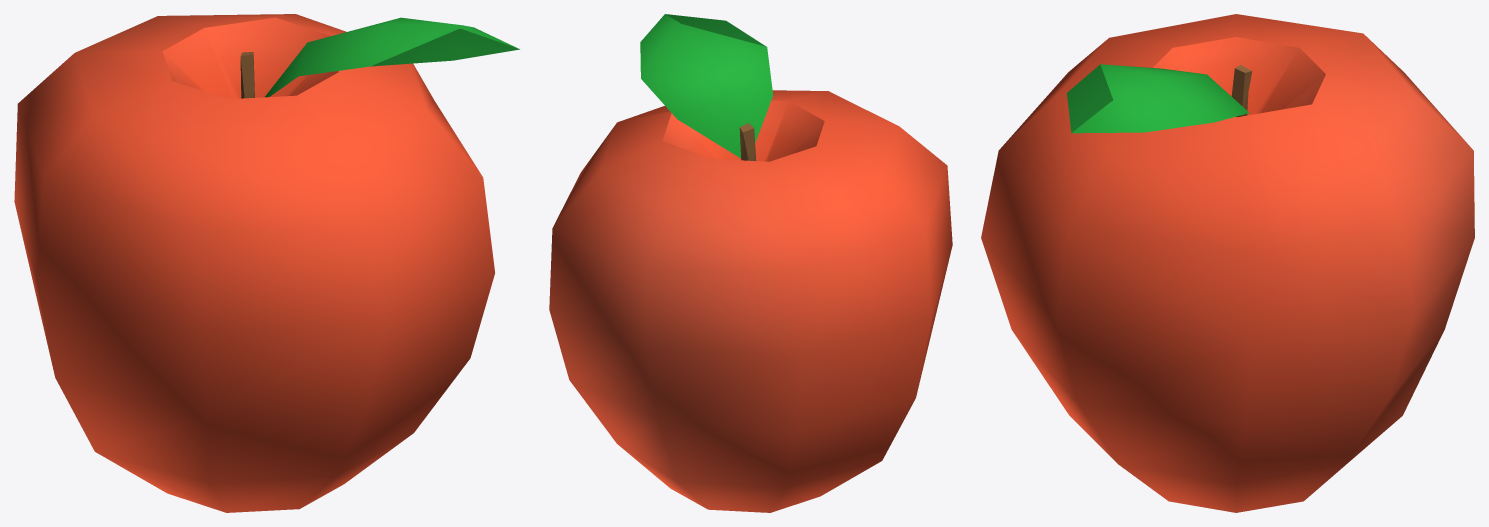
File: FOD0110002.fbx
The picture shows the model from 3 angles, left to right: view 1: azimuth 30°, elevation 25°; view 2: azimuth 150°, elevation 25°; view 3: azimuth 270°, elevation 25°; orthographic projection. The views are drawn at different scales.
Parts seen in each view (by area): view 1: smFOD0110002; view 2: smFOD0110002; view 3: smFOD0110002.
Boxes of the visible parts, left/top/right/bottom form: smFOD0110002: left=14, top=14, right=519, bottom=512; smFOD0110002: left=549, top=14, right=952, bottom=512; smFOD0110002: left=981, top=14, right=1474, bottom=512.
Bounding box in the file's own units: 8.63 × 9.35 × 9.23.
Materials: 1 (1 with a texture image).
